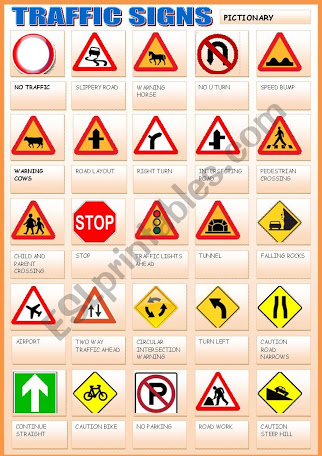slow down: (129, 28, 183, 81), (11, 114, 59, 164), (255, 32, 305, 78), (9, 201, 58, 247), (192, 201, 244, 244), (71, 30, 121, 74), (257, 117, 305, 160), (72, 374, 115, 417), (137, 201, 181, 242)
stop sign: (74, 198, 122, 244)
